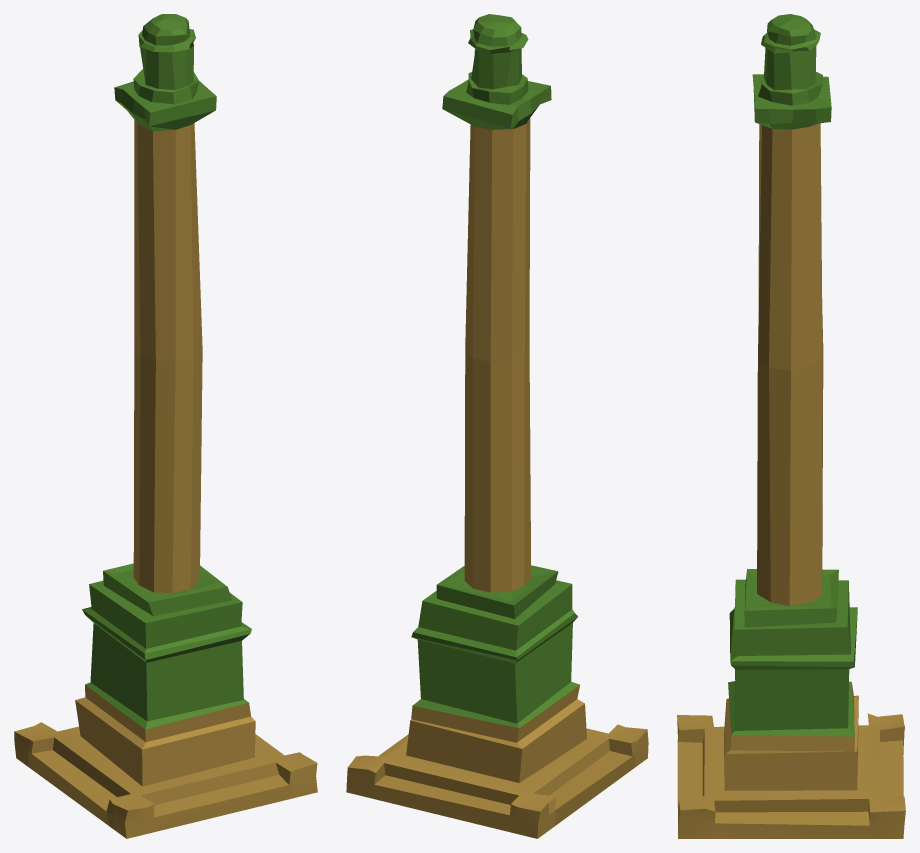
Rendered from aColumn.FBX.
3 renders of one model, left to right at view 1: azimuth 30°, elevation 25°; view 2: azimuth 150°, elevation 25°; view 3: azimuth 270°, elevation 25°, orthographic. The views are drawn at different scales.
Visible parts, largest first — view 1: Box001; view 2: Box001; view 3: Box001.
Boxes of the visible parts, x1,y1,x2,y2 form: Box001: (14, 14, 317, 838); Box001: (346, 14, 648, 838); Box001: (677, 14, 905, 838).
Size of the model in its own units: 236 by 872 by 234.
